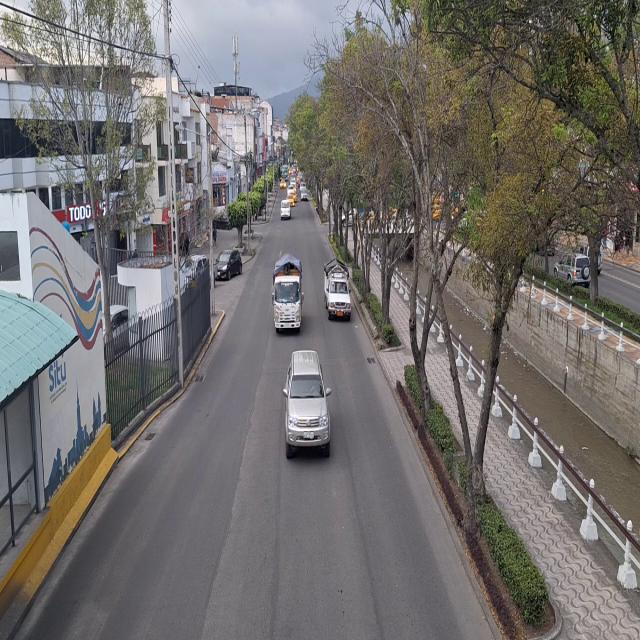CMT: (324, 258, 351, 322)
TRUCK: (274, 258, 301, 331)
